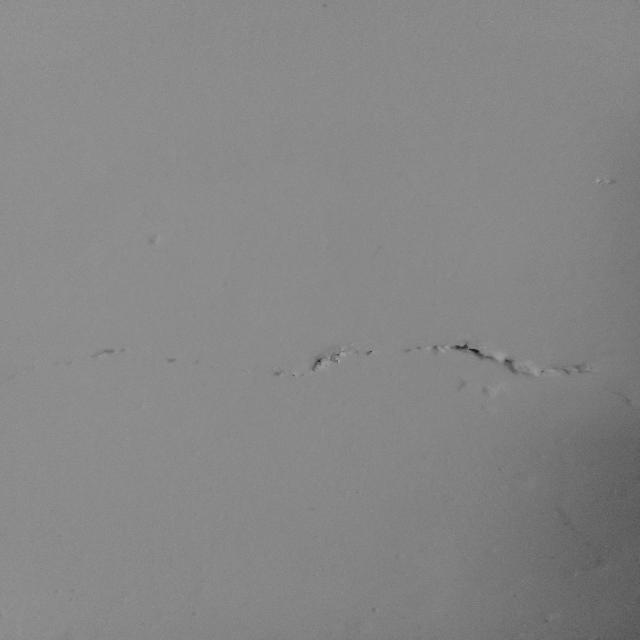rough and patchy surface: (0, 0, 640, 297), (3, 453, 640, 640), (0, 300, 638, 452)
